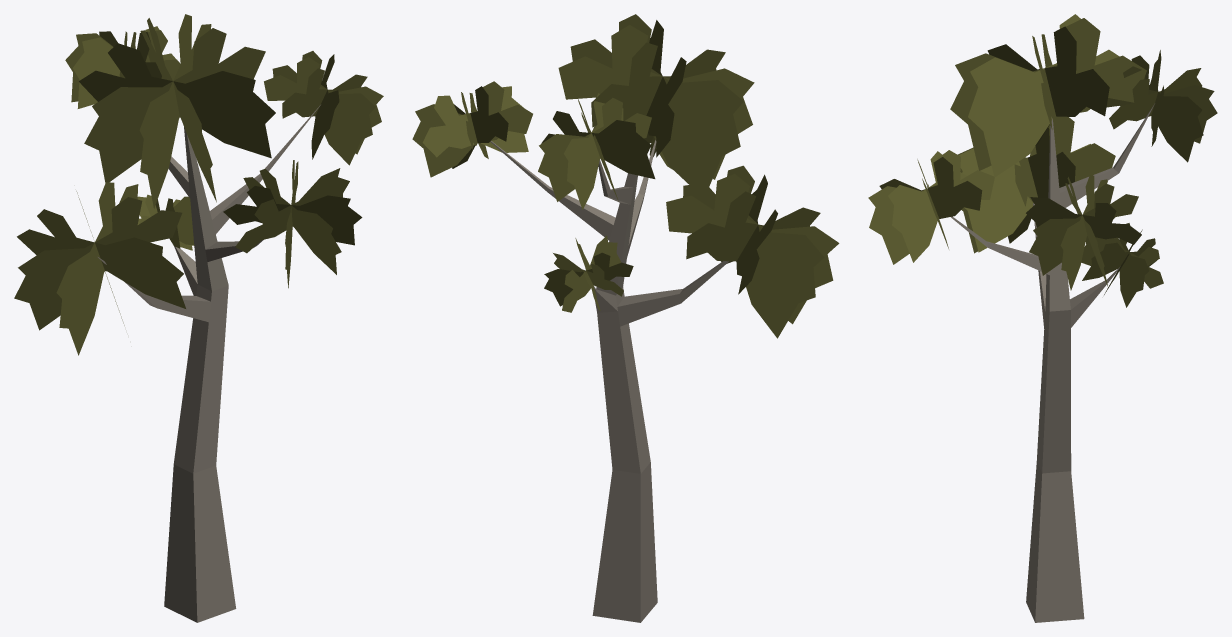
The model's file is Tree13.fbx.
3 renders of one model, left to right at view 1: azimuth 30°, elevation 25°; view 2: azimuth 150°, elevation 25°; view 3: azimuth 270°, elevation 25°, orthographic. The views are drawn at different scales.
Visible parts, largest first — view 1: Flat_half_tree.013; view 2: Flat_half_tree.013; view 3: Flat_half_tree.013.
Part boxes in pixels (x1,y1,x2,y2): Flat_half_tree.013: (14,14,383,622); Flat_half_tree.013: (412,14,839,622); Flat_half_tree.013: (868,14,1217,622).
Bounding box in the file's own units: 2.14 × 3.19 × 1.74.
